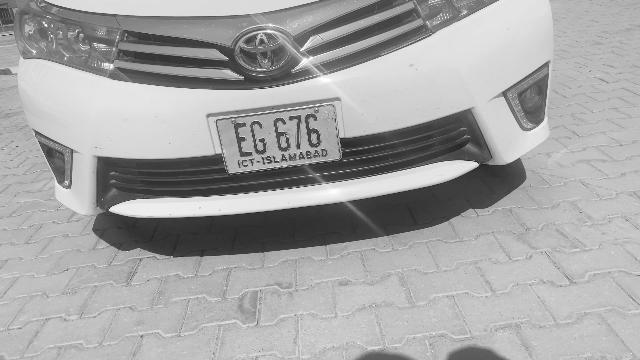Number: (230, 110, 325, 161)
